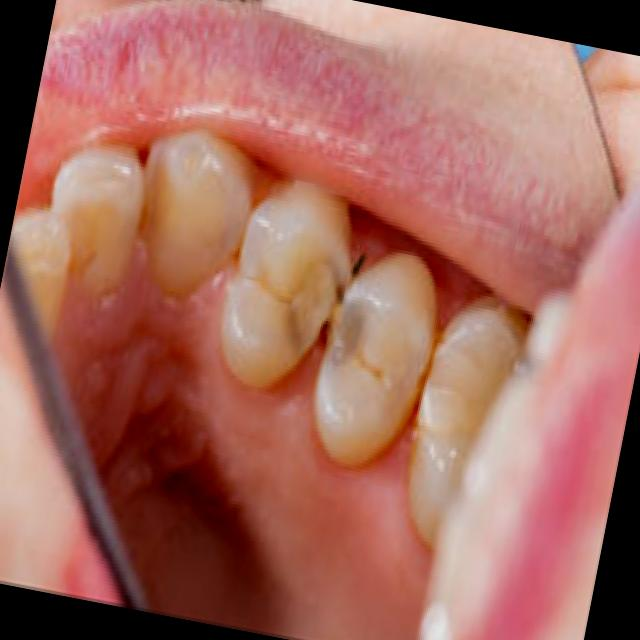caries: (282, 253, 376, 376)
